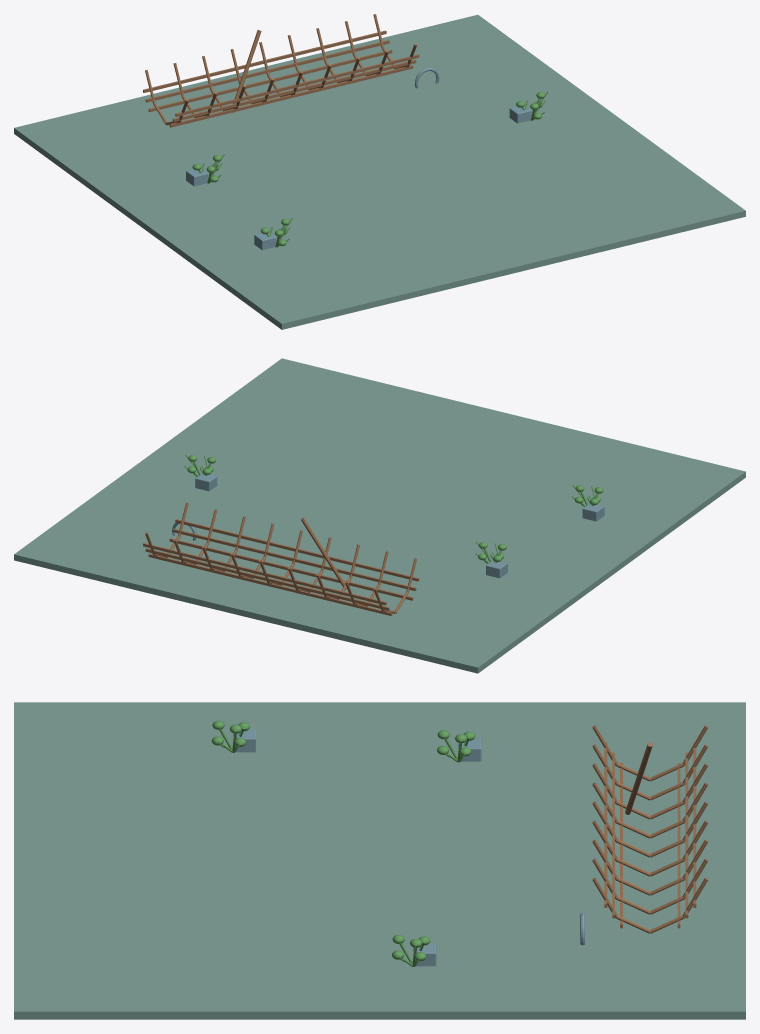
Rendered from journey_wreck.glb.
The picture shows the model from 3 angles, top to bottom: view 1: azimuth 30°, elevation 25°; view 2: azimuth 150°, elevation 25°; view 3: azimuth 270°, elevation 25°; orthographic projection. The views are drawn at different scales.
Visible parts, largest first — view 1: Scenery_Journey Wreck silt, Scenery_Journey Wood.002, Scenery_Journey Steel.002, Scenery_Journey Leaves.002; view 2: Scenery_Journey Wreck silt, Scenery_Journey Wood.002, Scenery_Journey Leaves.002, Scenery_Journey Steel.002; view 3: Scenery_Journey Wreck silt, Scenery_Journey Wood.002, Scenery_Journey Leaves.002, Scenery_Journey Steel.002.
Boxes of the visible parts, <box> form: Scenery_Journey Wreck silt: <box>14,14,745,329</box>; Scenery_Journey Wood.002: <box>143,14,419,127</box>; Scenery_Journey Steel.002: <box>186,68,531,250</box>; Scenery_Journey Leaves.002: <box>192,91,547,247</box>; Scenery_Journey Wreck silt: <box>14,358,745,673</box>; Scenery_Journey Wood.002: <box>143,502,419,615</box>; Scenery_Journey Leaves.002: <box>184,454,603,563</box>; Scenery_Journey Steel.002: <box>172,473,604,578</box>; Scenery_Journey Wreck silt: <box>14,702,745,1019</box>; Scenery_Journey Wood.002: <box>592,725,708,933</box>; Scenery_Journey Leaves.002: <box>211,720,475,966</box>; Scenery_Journey Steel.002: <box>233,729,584,966</box>.
Size of the model in its own units: 65 by 10.83 by 65.
